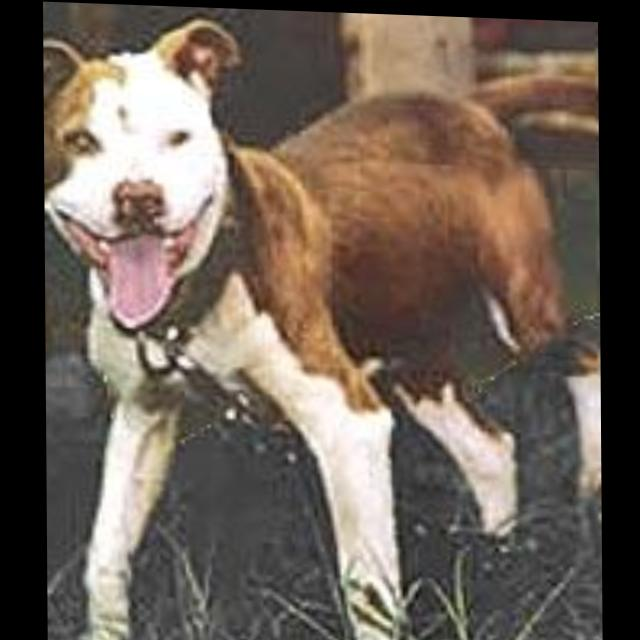amstaff: (44, 9, 602, 640)
